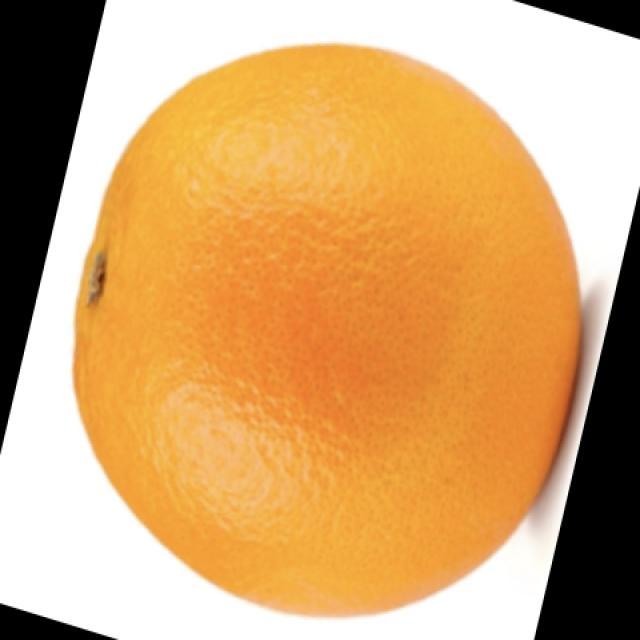Orange: (71, 41, 583, 618)
